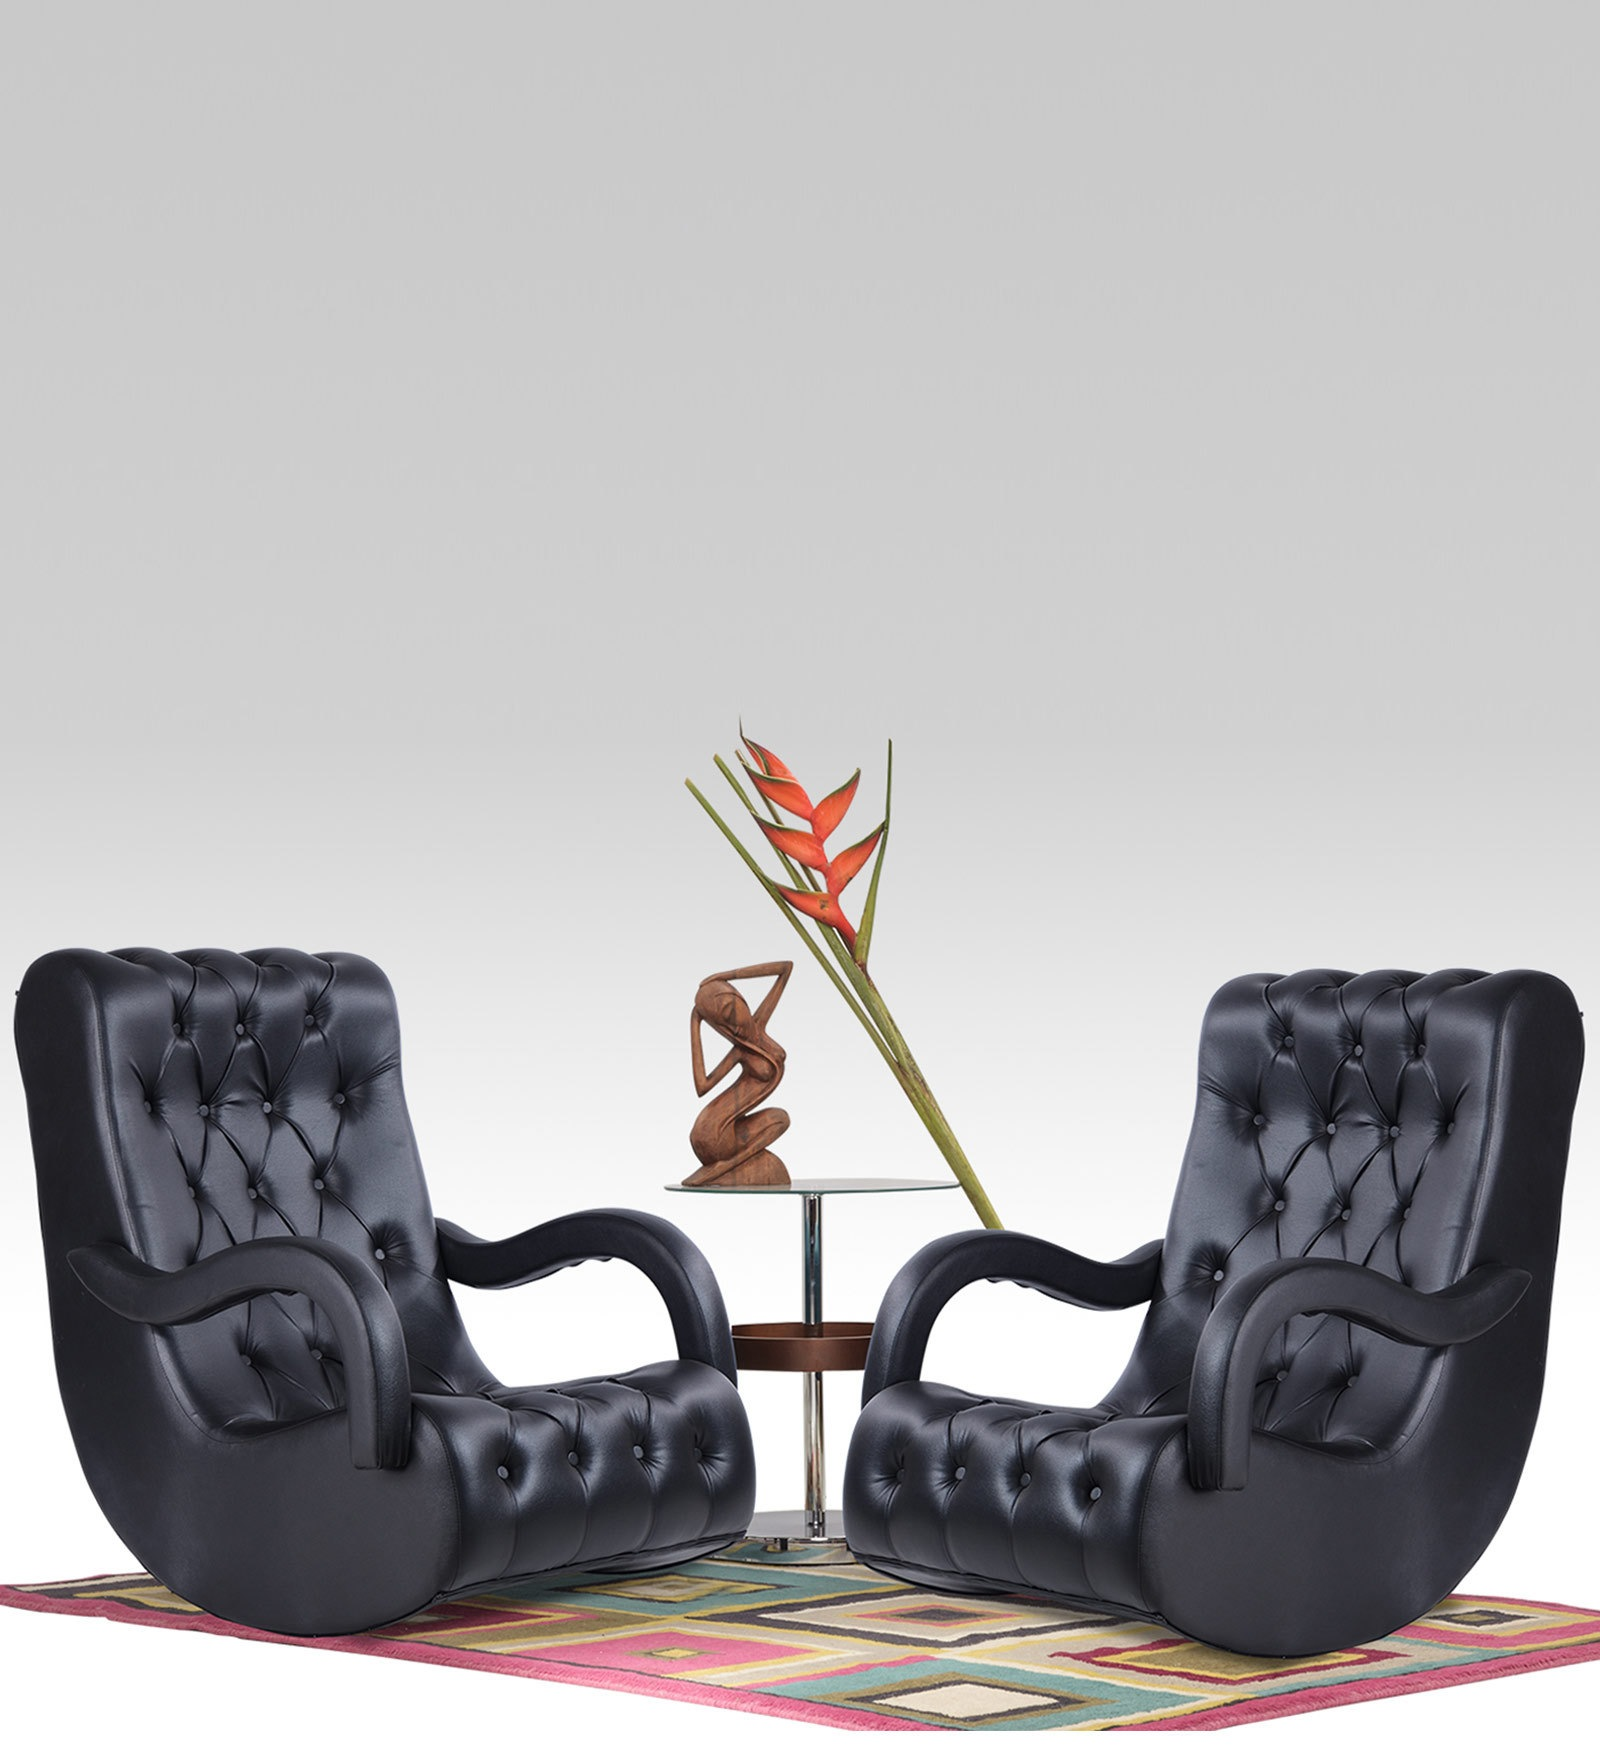Low Seat Rocking Chair with Arm Rest in Black Leatherette by Durian: (838, 932, 1583, 1660), (15, 935, 765, 1645)
